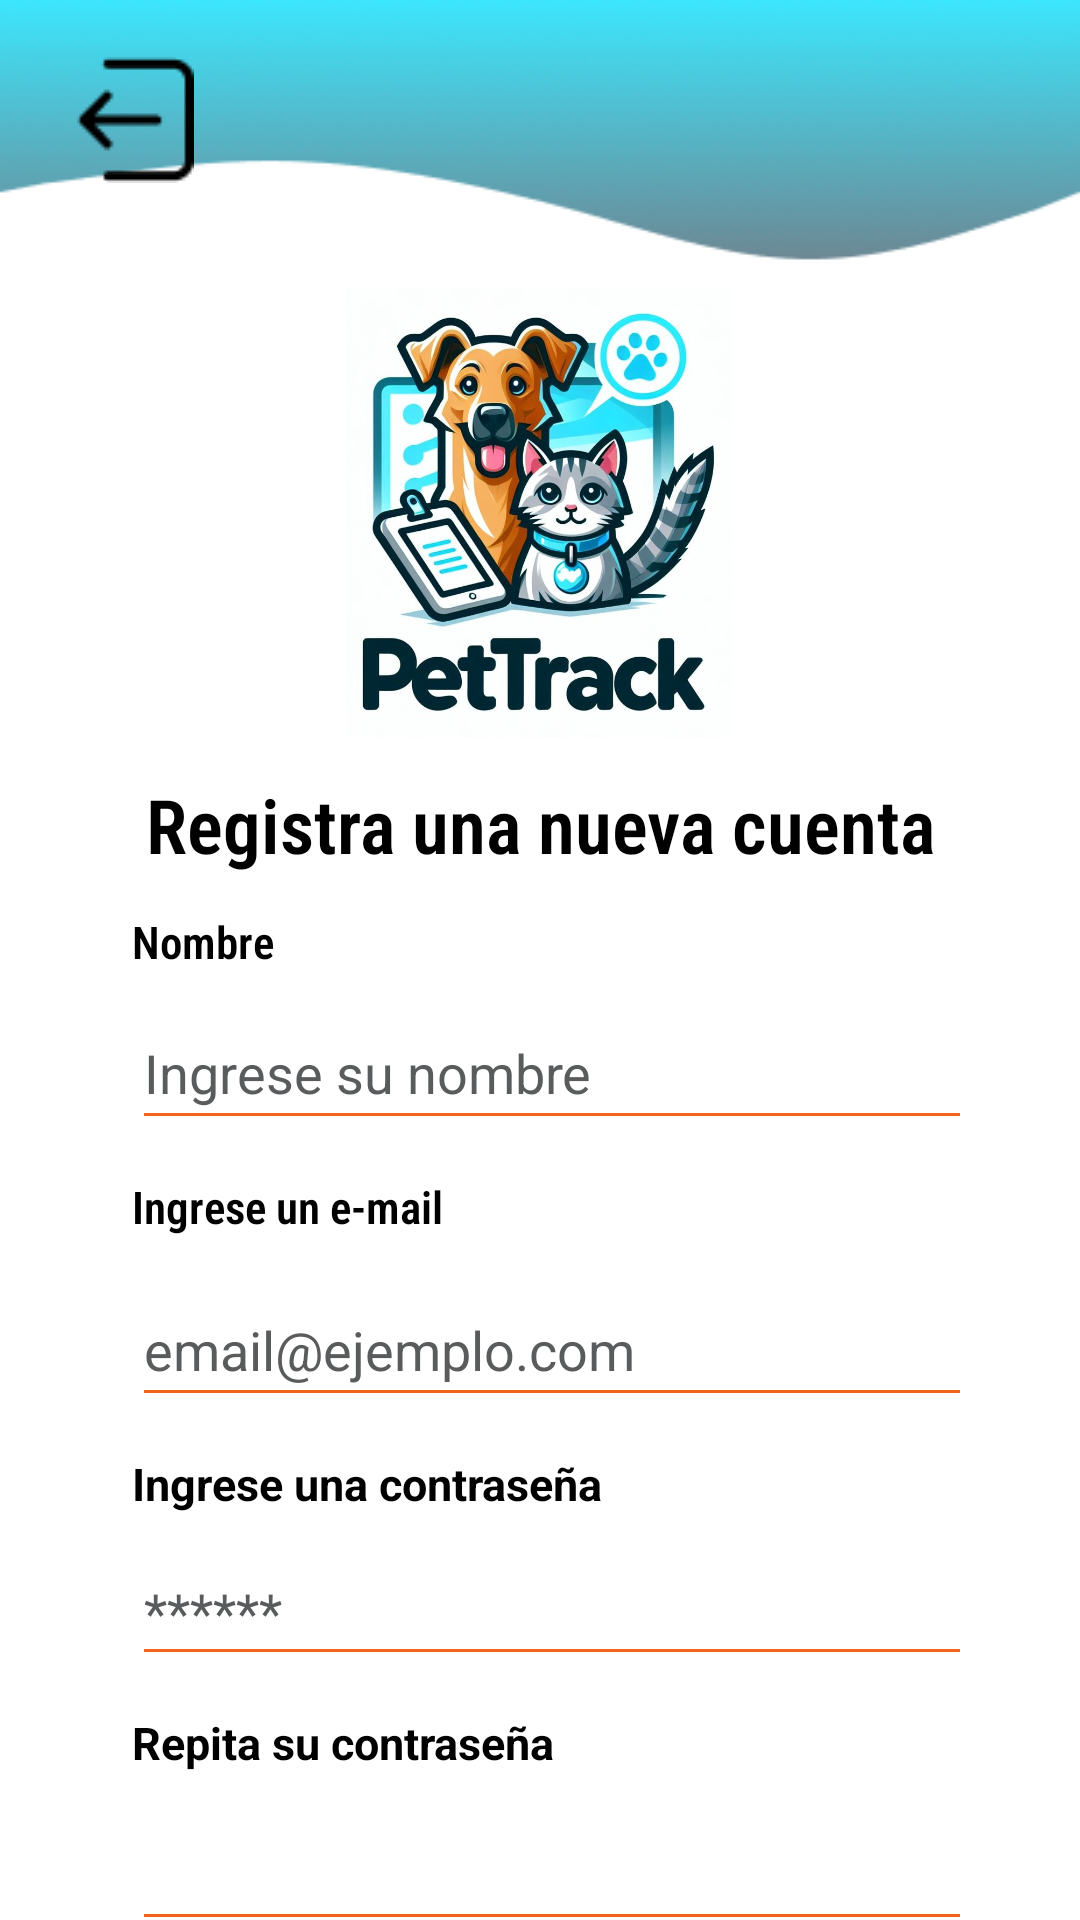

Icon click points for this 1080px x 1920px phone screenshot, format (x=x, y=y):
btnvolver: (x=135, y=120)
